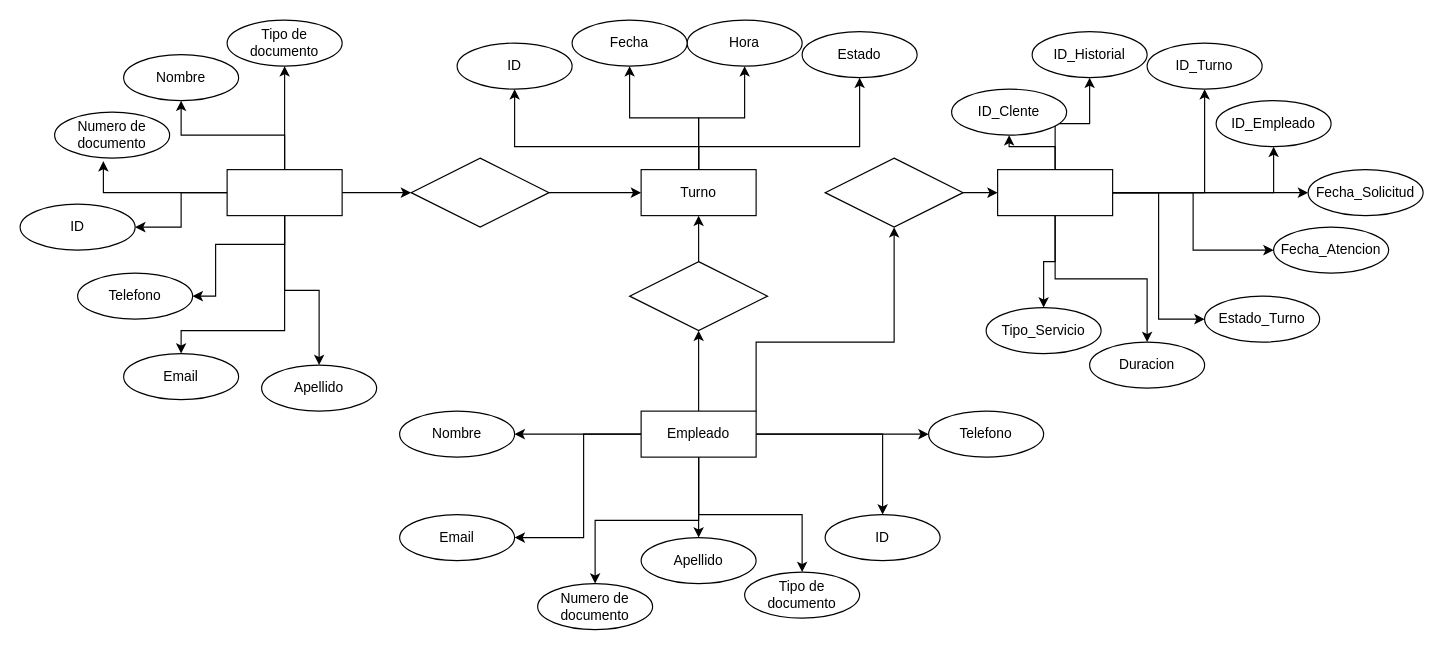
This 1443x650 diagram has some shape labels left out. The centre of each missing label's shape, as x and y in pixels:
"Atiende" belongs at (698,295).
"Cliente" belongs at (284,192).
"genera" belongs at (893,192).
"Historial de turnos" belongs at (1054,192).
"pide" belongs at (479,192).
